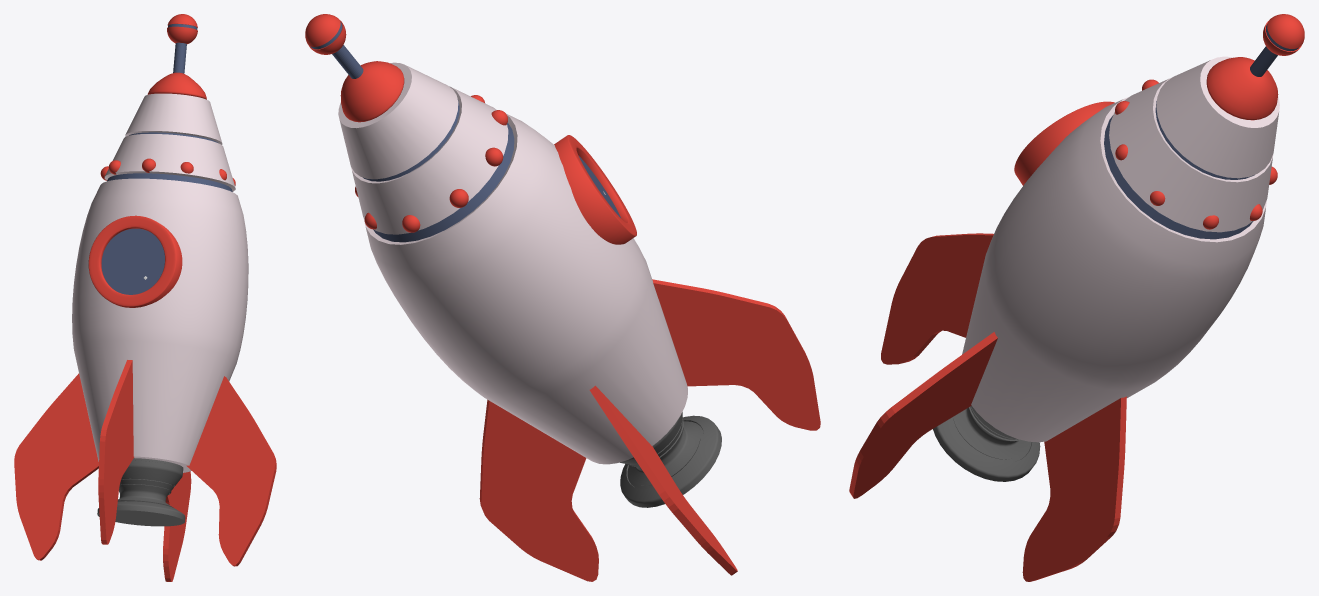
Rendered from rocket.glb.
The picture shows the model from 3 angles, left to right: view 1: azimuth 30°, elevation 25°; view 2: azimuth 150°, elevation 25°; view 3: azimuth 270°, elevation 25°; orthographic projection. The views are drawn at different scales.
Visible parts, largest first — view 1: Cylinder, Plane, Plane.002, Cylinder.002, Plane.003, Cylinder.003, Plane.001, Sphere, Sphere.001, Sphere.002, Cylinder.001; view 2: Cylinder, Plane.003, Plane.001, Cylinder.003, Cylinder.002, Plane.002, Sphere, Sphere.001, Sphere.002; view 3: Cylinder, Plane.001, Plane.003, Plane, Cylinder.003, Sphere, Cylinder.002, Sphere.001, Sphere.002.
Part boxes in pixels (<box>): Cylinder: <box>72,93,248,472</box>; Plane: <box>186,376,276,566</box>; Plane.002: <box>14,373,98,560</box>; Cylinder.002: <box>88,215,182,307</box>; Plane.003: <box>98,360,134,544</box>; Cylinder.003: <box>97,458,185,526</box>; Plane.001: <box>163,471,191,581</box>; Sphere: <box>147,72,206,99</box>; Sphere.001: <box>167,14,197,44</box>; Sphere.002: <box>100,158,235,185</box>; Cylinder.001: <box>173,42,186,73</box>; Cylinder: <box>338,62,687,464</box>; Plane.003: <box>652,279,820,430</box>; Plane.001: <box>479,399,598,581</box>; Cylinder.003: <box>620,412,721,507</box>; Cylinder.002: <box>554,135,636,244</box>; Plane.002: <box>589,385,737,575</box>; Sphere: <box>340,61,404,122</box>; Sphere.001: <box>305,14,346,54</box>; Sphere.002: <box>355,95,507,232</box>; Cylinder: <box>962,56,1279,442</box>; Plane.001: <box>1022,396,1126,581</box>; Plane.003: <box>881,233,993,364</box>; Plane: <box>849,332,997,498</box>; Cylinder.003: <box>933,405,1040,481</box>; Sphere: <box>1206,57,1278,120</box>; Cylinder.002: <box>1014,101,1114,185</box>; Sphere.001: <box>1263,14,1304,55</box>; Sphere.002: <box>1115,79,1277,229</box>.
Bounding box in the file's own units: 0.3826 × 0.7075 × 0.4593.
